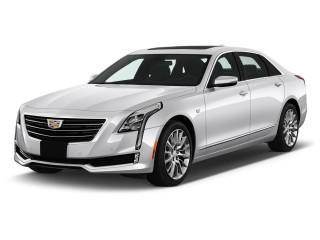cadillac: (42, 116, 69, 132)
